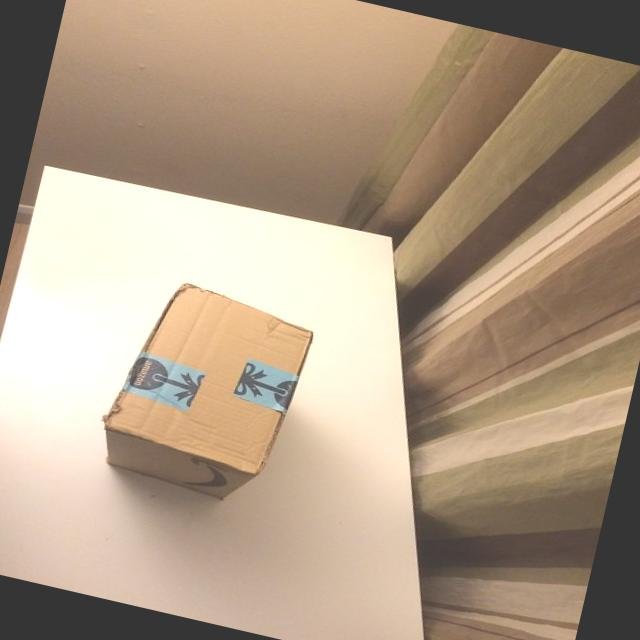Recycle: (90, 268, 314, 512)
